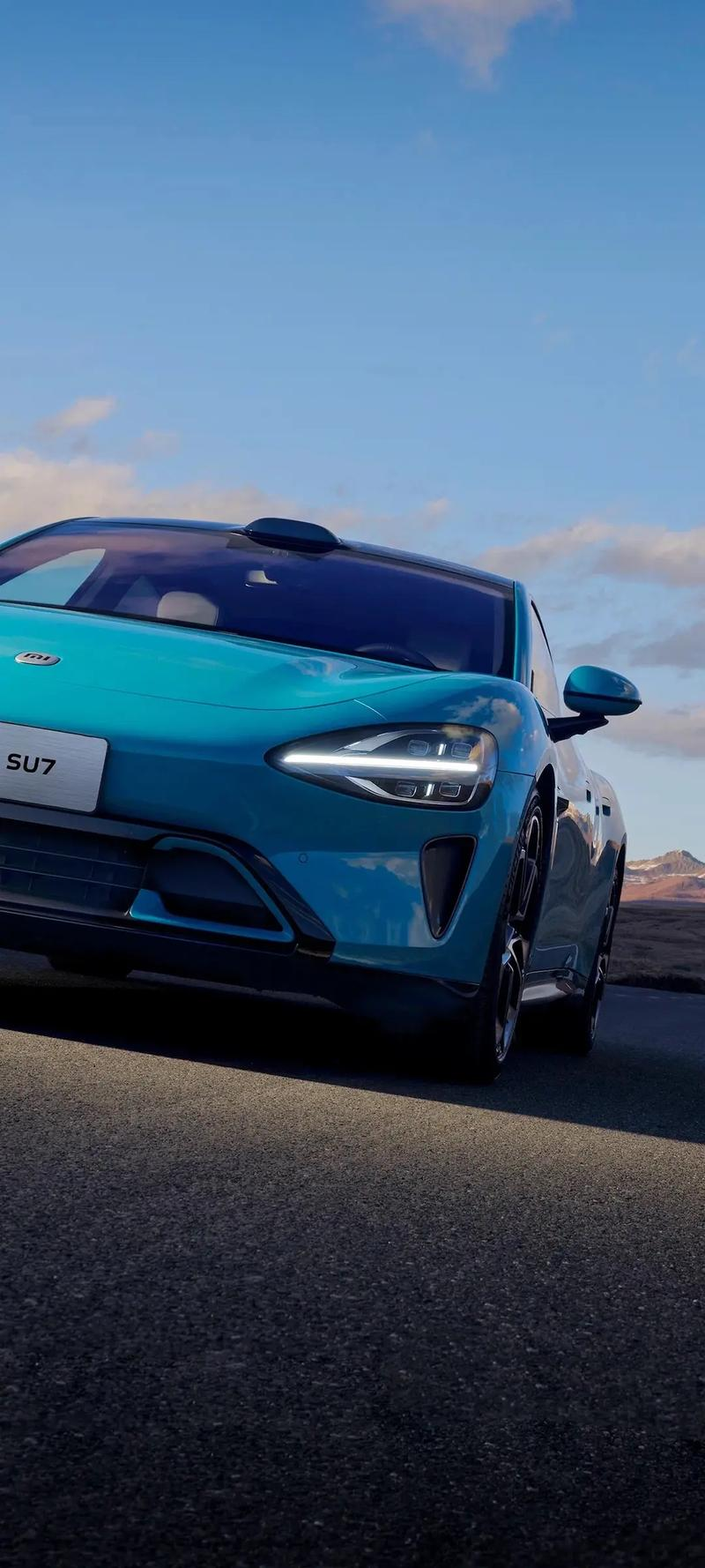su7: (0, 497, 627, 1109)
